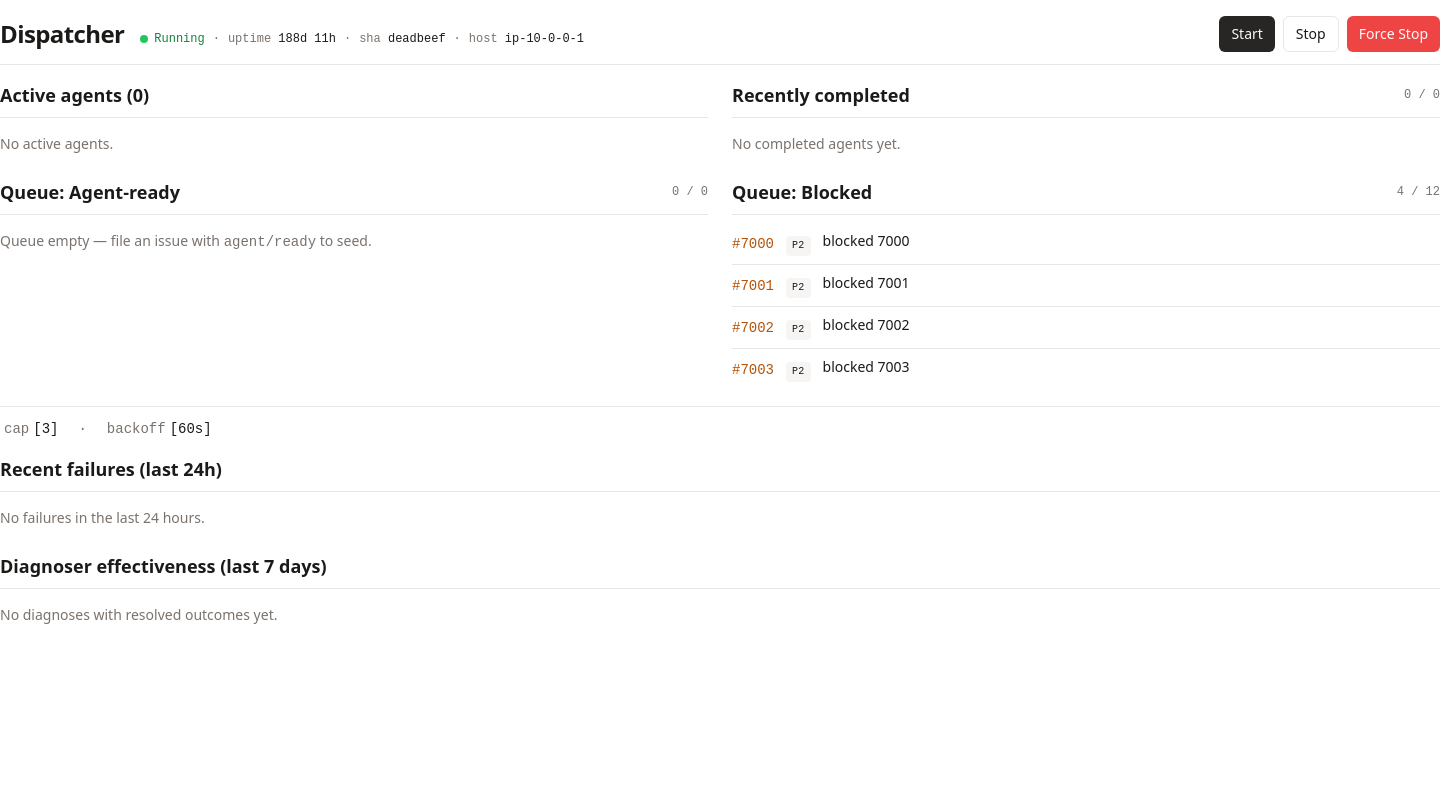
Test: DispatcherDashboard — #3222 dialog title (total only) › BLOCKED dialog title reads `Queue: Blocked — {total}`
Click the button with test id "queue-blocked-count" at (1418, 192), box [1397,184,1439,200]
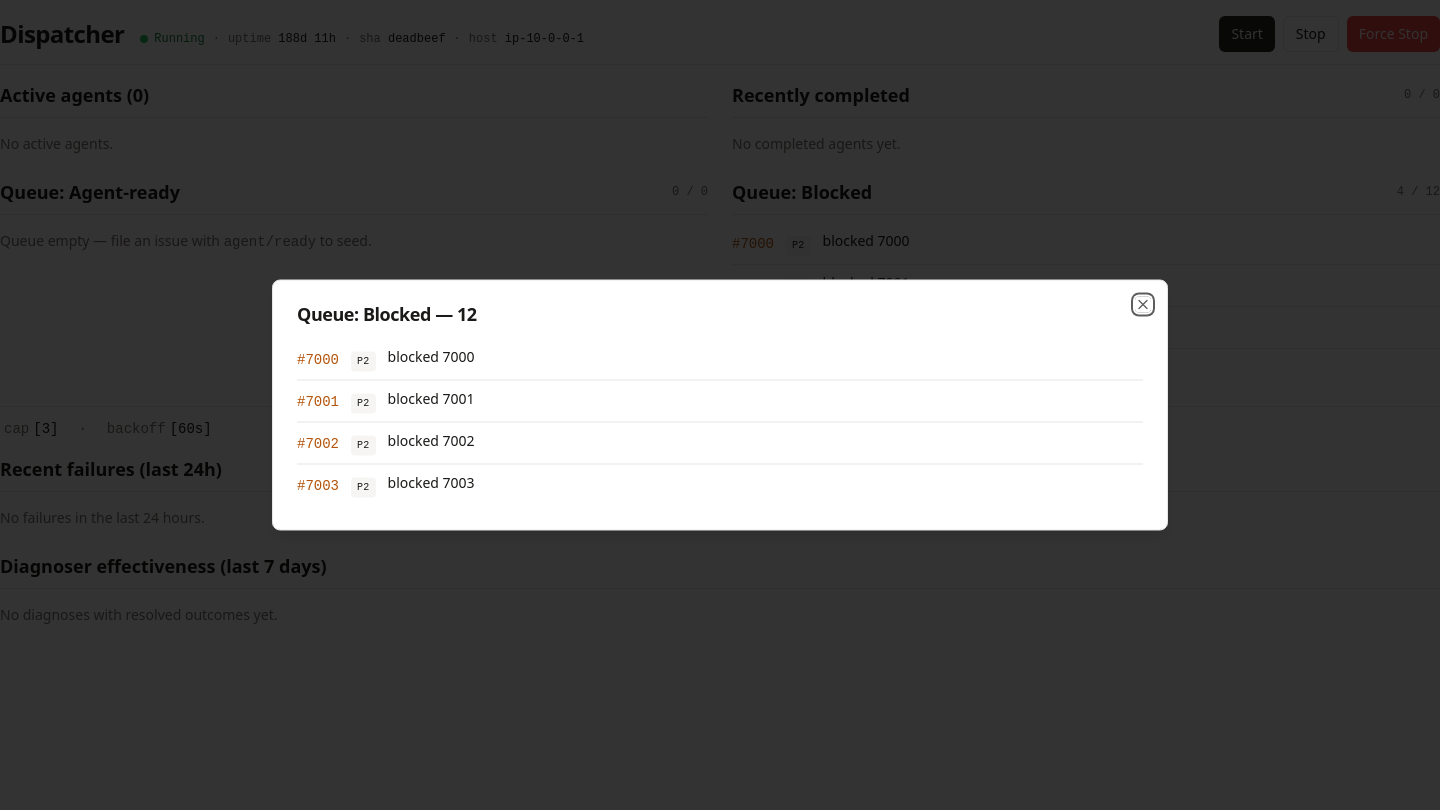
Expected: the heading with test id "queue-full-dialog-title" reads "Queue: Blocked — 12", [297,302,477,326]
